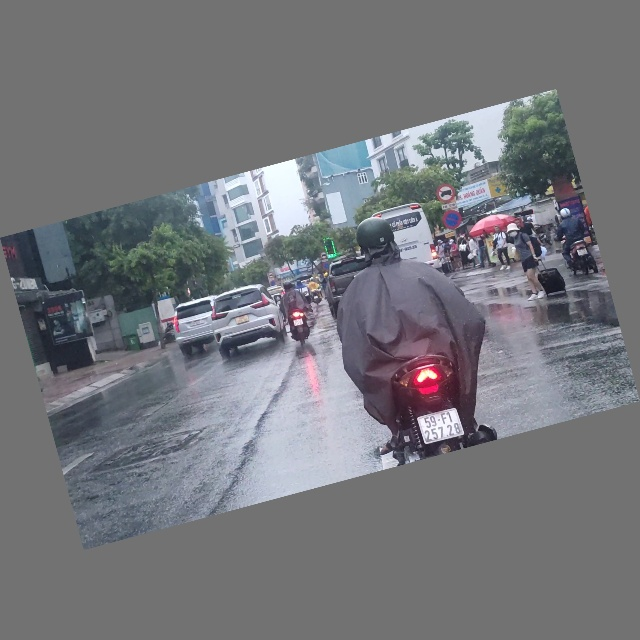P.106a*Xe tai: (434, 182, 457, 205), (319, 252, 328, 260)
P.131a: (440, 208, 463, 232), (322, 262, 331, 270)
